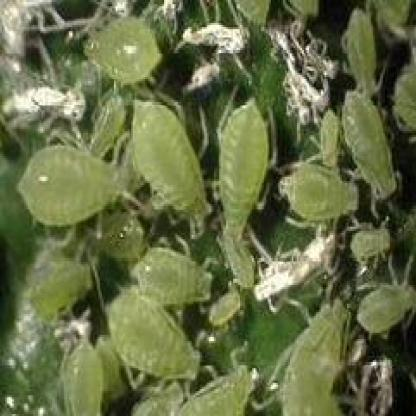aphid: (100, 279, 219, 391), (119, 100, 214, 226), (15, 143, 139, 225), (274, 299, 357, 416), (339, 80, 405, 204), (218, 89, 264, 250), (135, 238, 219, 314), (277, 154, 355, 226), (82, 15, 162, 82), (31, 245, 92, 322), (182, 365, 272, 416), (355, 269, 416, 343), (335, 10, 386, 96), (66, 340, 123, 416), (219, 221, 266, 289), (121, 374, 193, 416), (85, 100, 133, 162), (350, 216, 392, 267), (206, 283, 242, 335), (317, 110, 344, 167)
